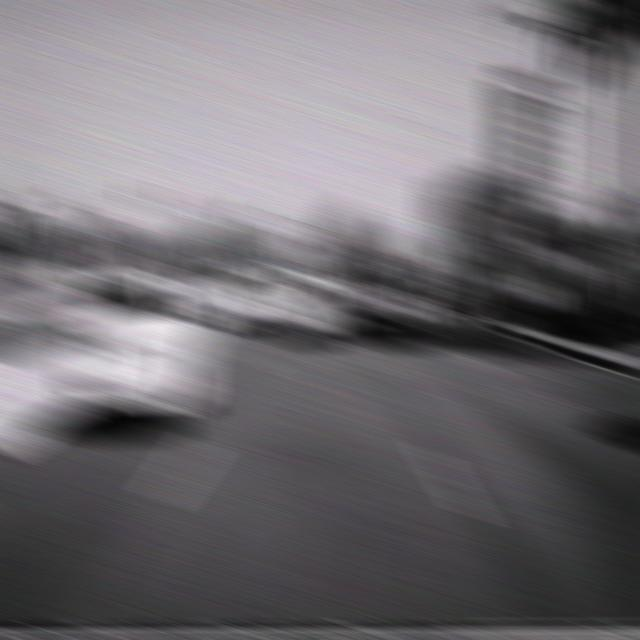pedestrianCrossing: (603, 184, 640, 243)
